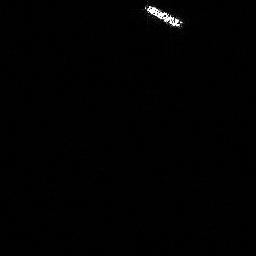ship: (142, 1, 186, 31)
